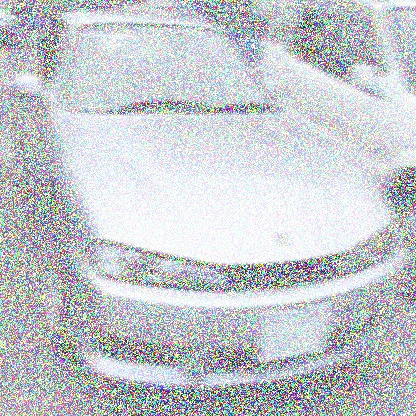Vehicle: (10, 13, 408, 398)
